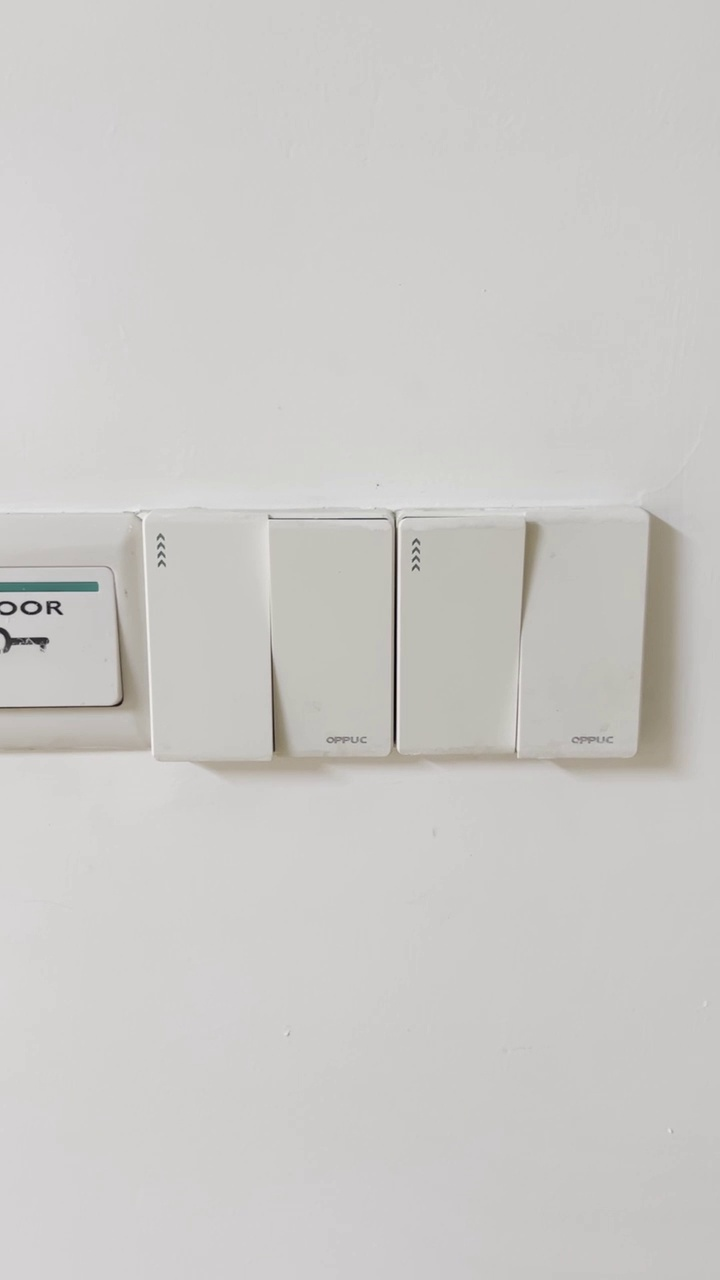button1: (143, 514, 270, 753), (520, 517, 642, 757), (275, 523, 392, 760), (402, 519, 515, 758)
